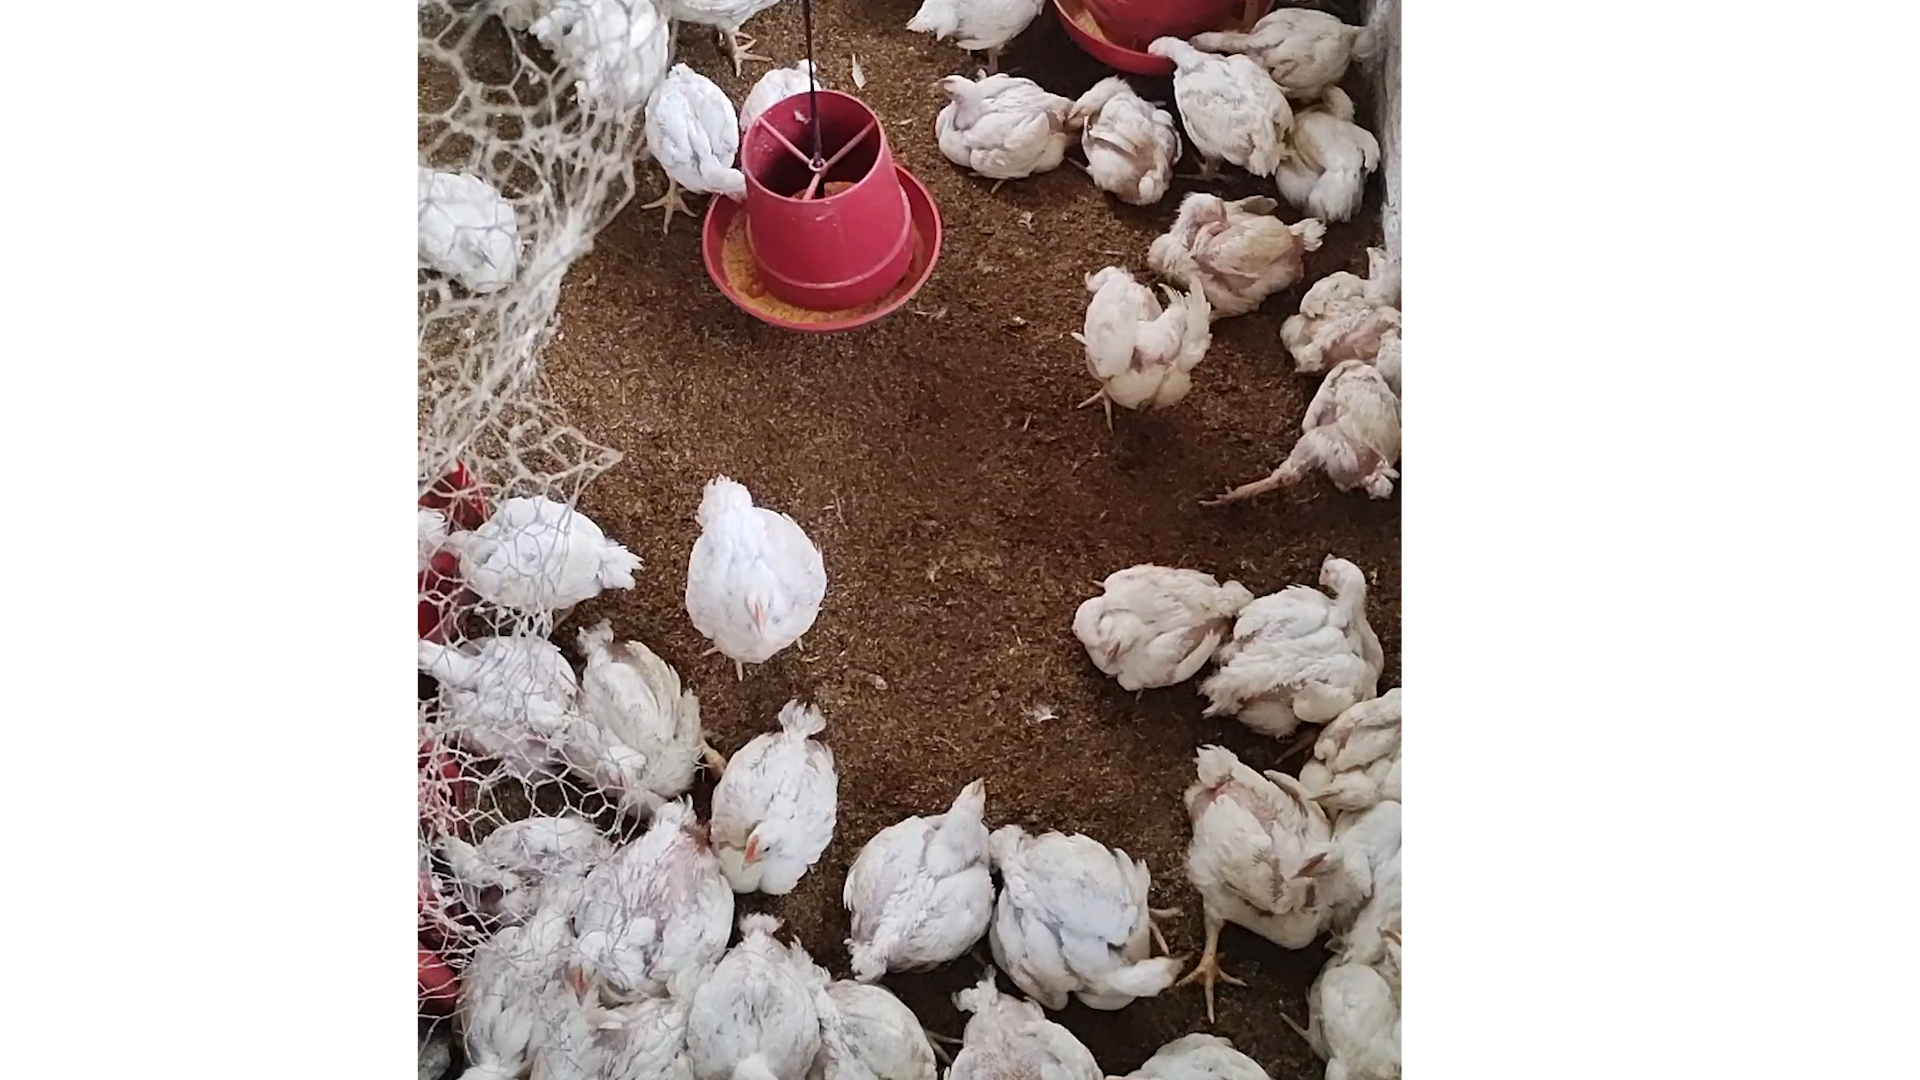Pollos: (1178, 744, 1336, 1009), (831, 769, 1022, 984), (982, 816, 1193, 1002), (550, 804, 742, 1002), (1187, 361, 1402, 533), (1196, 547, 1389, 738), (564, 607, 735, 812), (671, 462, 833, 674), (421, 616, 621, 773), (436, 897, 596, 1080), (1048, 264, 1205, 440), (1060, 549, 1241, 694), (1139, 26, 1294, 194), (451, 489, 630, 630), (713, 696, 847, 884), (684, 907, 816, 1080), (1149, 175, 1313, 309), (398, 158, 549, 301), (924, 61, 1077, 196), (644, 42, 752, 228), (1193, 0, 1385, 88), (1286, 74, 1395, 223), (1067, 74, 1182, 208), (571, 968, 705, 1080), (1288, 258, 1414, 377), (893, 0, 1044, 61)
